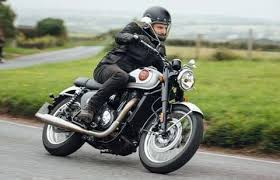motorcycle: (32, 18, 207, 175)
